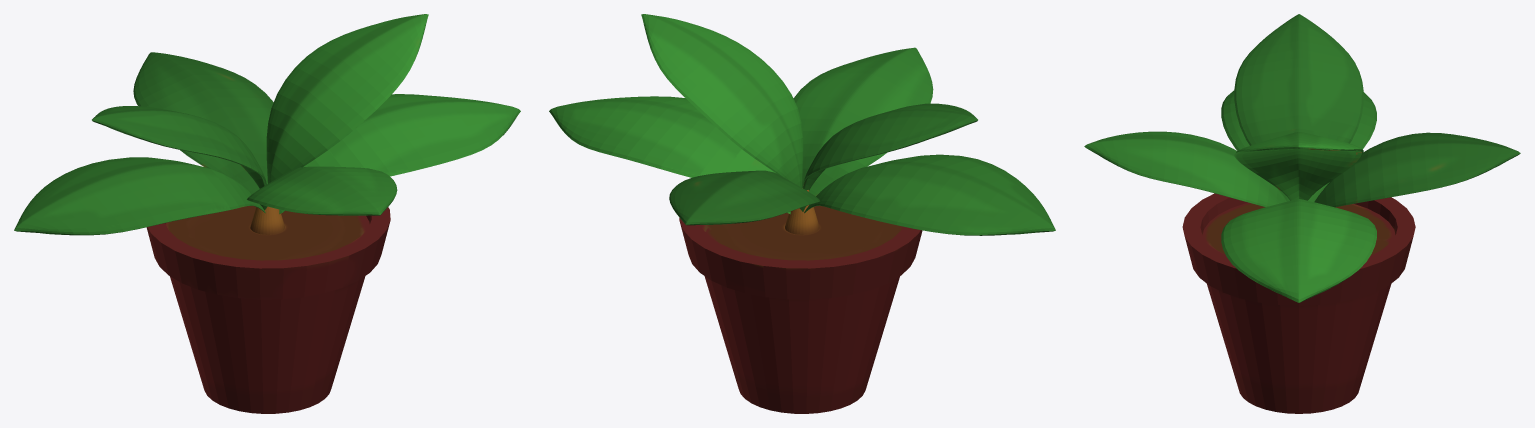
Rendered from Planta_prefab.fbx.
3 views of the same model, side by side, from view 1: azimuth 30°, elevation 25°; view 2: azimuth 150°, elevation 25°; view 3: azimuth 270°, elevation 25° (orthographic). The views are drawn at different scales.
Parts seen in each view (by area): view 1: Cylinder, Cylinder.003, Cylinder.002, Cylinder.001, Cylinder.005, Cylinder.006, Cylinder.004; view 2: Cylinder, Cylinder.002, Cylinder.003, Cylinder.001, Cylinder.006, Cylinder.005, Cylinder.004; view 3: Cylinder, Cylinder.004, Cylinder.001, Cylinder.005, Cylinder.006, Cylinder.003, Cylinder.002.
Boxes of the visible parts, x1,y1,x2,y2 form: Cylinder: (146,206,390,413); Cylinder.003: (266,14,428,183); Cylinder.002: (14,157,265,235); Cylinder.001: (279,94,520,214); Cylinder.005: (133,52,273,193); Cylinder.006: (247,166,397,215); Cylinder.004: (92,106,266,188); Cylinder: (679,190,922,413); Cylinder.002: (804,154,1055,235); Cylinder.003: (641,14,803,187); Cylinder.001: (549,96,790,214); Cylinder.006: (793,47,933,196); Cylinder.005: (669,170,820,225); Cylinder.004: (803,103,977,190); Cylinder: (1182,193,1415,413); Cylinder.004: (1234,14,1363,145); Cylinder.001: (1221,199,1376,302); Cylinder.005: (1314,132,1520,207); Cylinder.006: (1084,131,1286,207); Cylinder.003: (1234,132,1363,200); Cylinder.002: (1221,90,1376,201).
Size of the model in its own units: 268 by 169 by 211.
7 materials, 7 textured.
